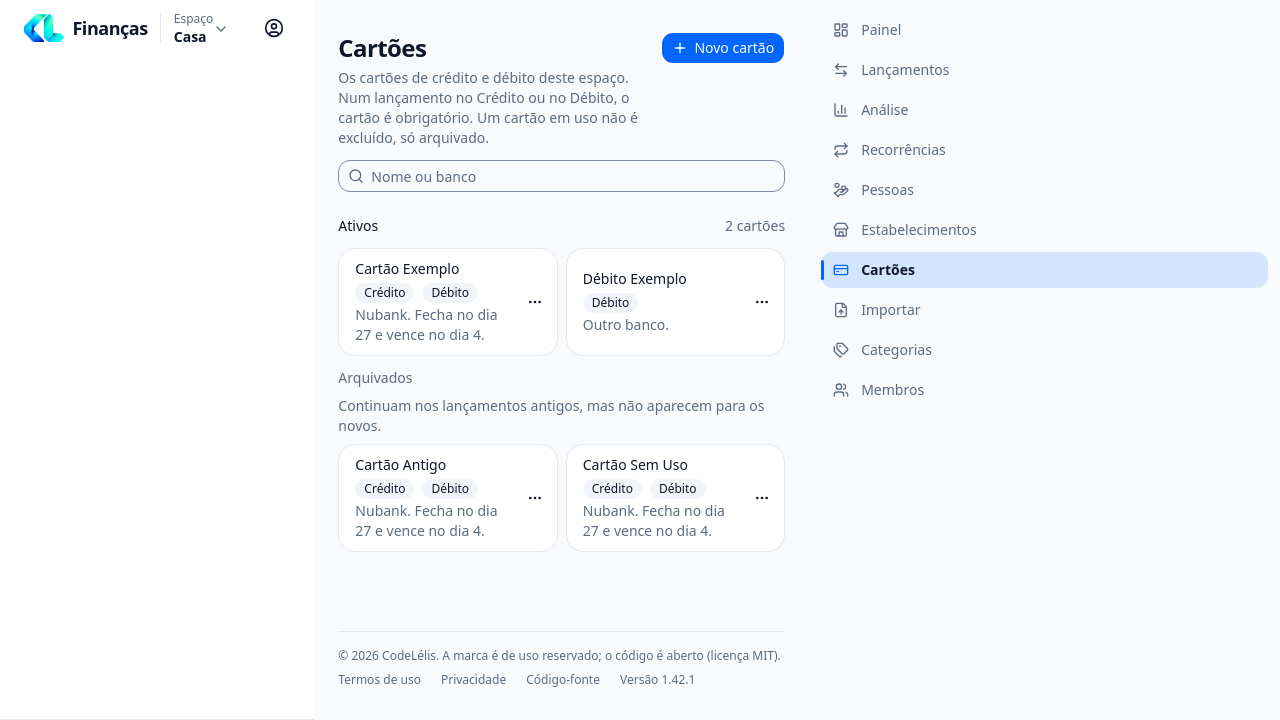
Scenario: CardsPage › lists the cards with their functions, bank and bill days, the archived apart
The width and height of the screenshot is (1280, 720).
Expected: the text "2 cartões" is shown, top-left (725, 216), bottom-right (785, 236)
Note: By the bank too, ignoring case.
Type "outro" into the search field named "Buscar cartão". click: (562, 176)
box: top-left (338, 160), bottom-right (785, 192)
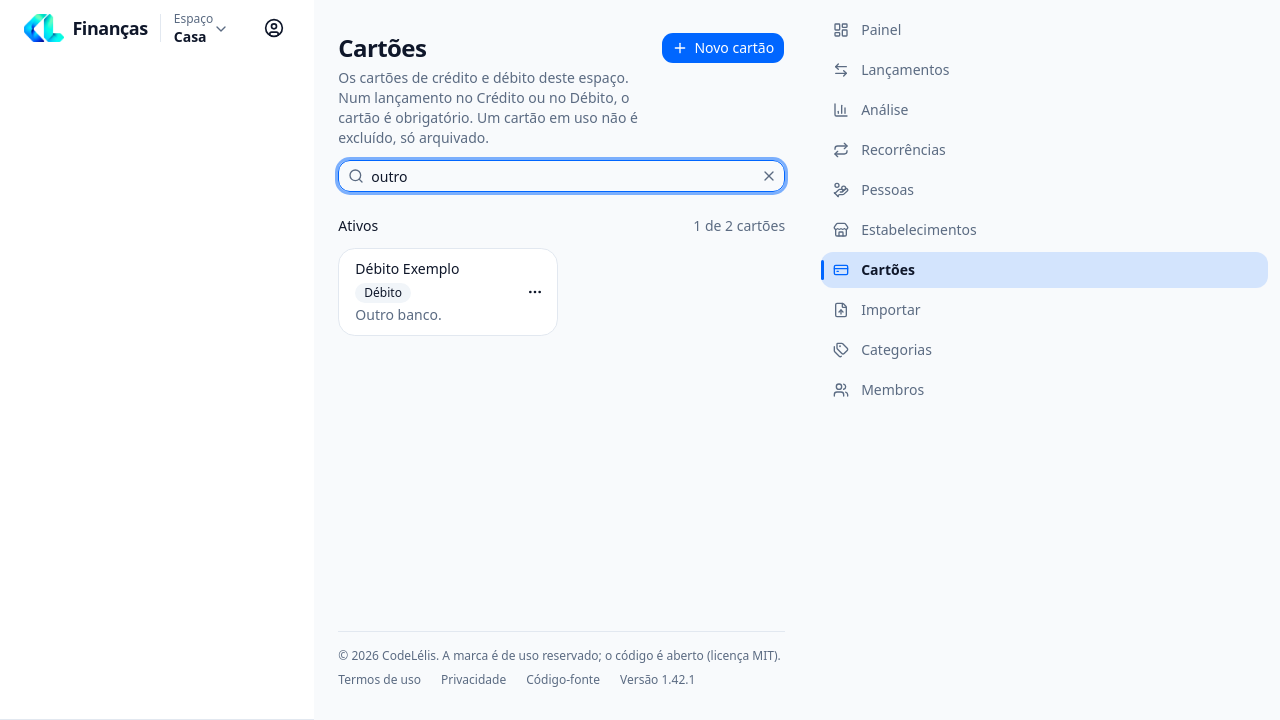
Now the text "1 de 2 cartões" is shown, box top-left (693, 216), bottom-right (785, 236)
